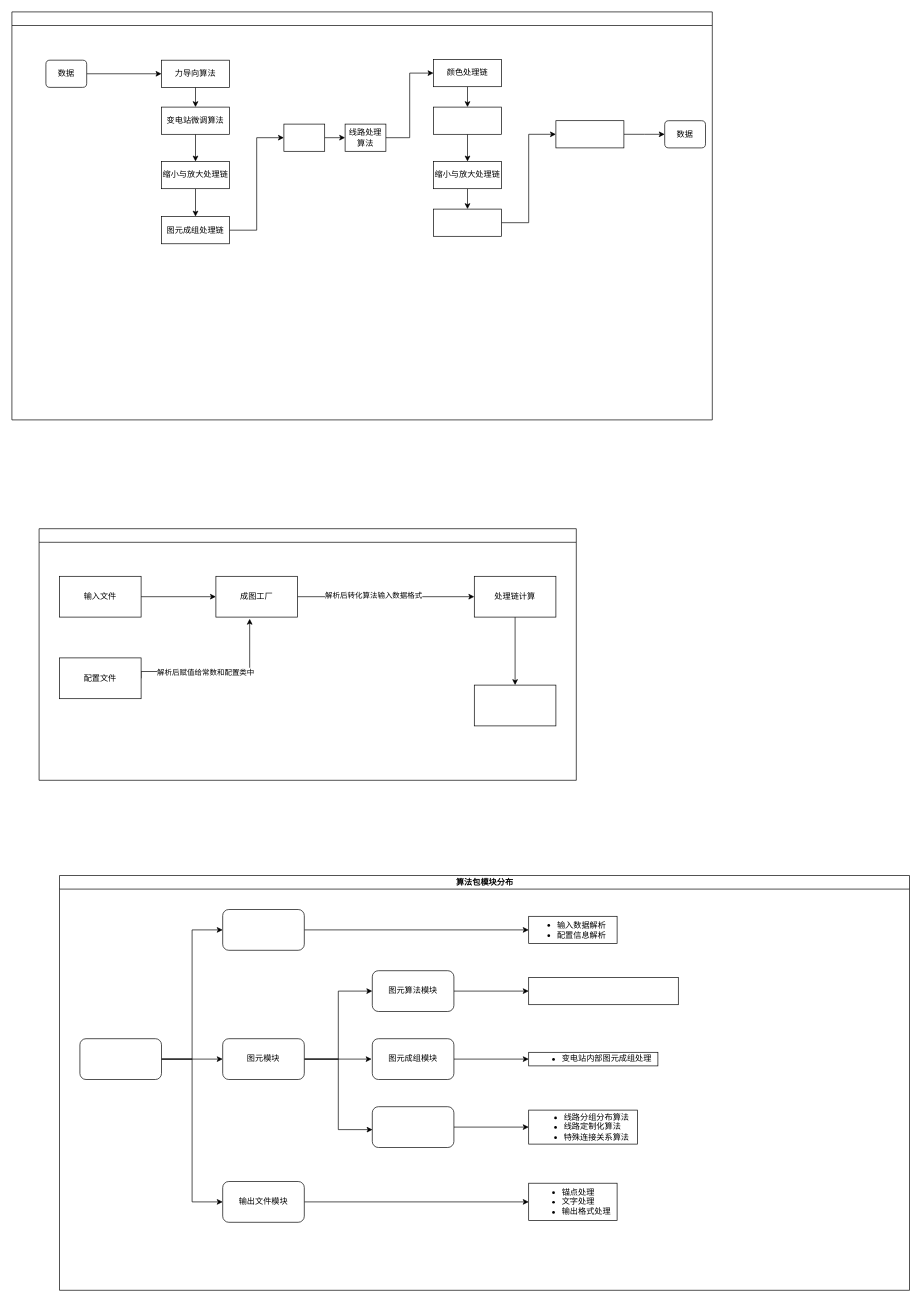
The diagram is 921 pixels wide and 1302 high, and some of its shapes have lost their labels. Here are the shapes that lost their labels. From the top down, the box of each, then its label:
(283, 123, 325, 151): 退火算法
(433, 106, 502, 134): 锚点处理链
(555, 120, 624, 148): 输出处理链
(11, 11, 712, 420): 具体处理链与算法流程图
(433, 208, 502, 236): 文字处理链
(38, 528, 576, 780): 算法包流程图
(474, 684, 556, 726): 输出文件
(222, 909, 304, 950): 输入文件解析模块
(528, 977, 678, 1005): 力导向算法处理变电站分布 退火算法处理站外联络开关分布
(79, 1038, 162, 1080): 算法包
(372, 1106, 454, 1148): 线路算法模块
